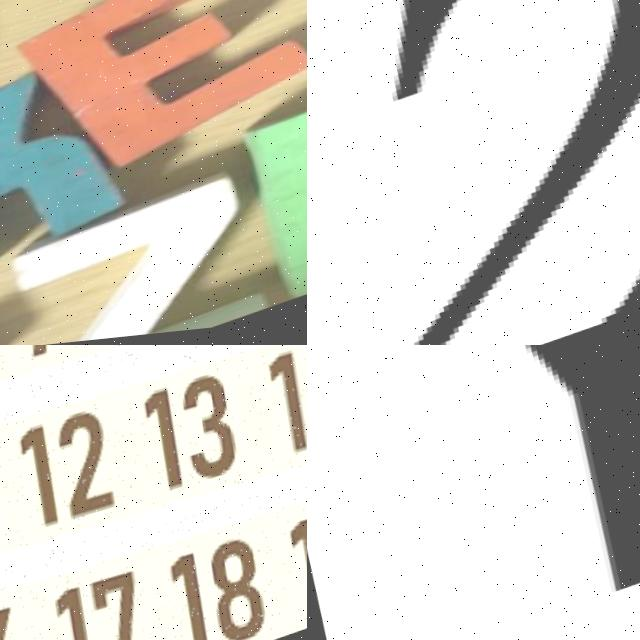1: (133, 386, 199, 506), (6, 420, 71, 539), (253, 350, 307, 471), (156, 549, 225, 640), (44, 581, 111, 640), (280, 518, 307, 637)
2: (307, 0, 640, 345), (45, 404, 130, 527)
3: (172, 372, 247, 492)
6: (0, 596, 48, 640)
7: (80, 564, 162, 640)
8: (194, 532, 283, 640)
E: (2, 0, 307, 193)
F: (228, 54, 307, 319)
K: (0, 27, 151, 309)
Y: (342, 345, 640, 640)
